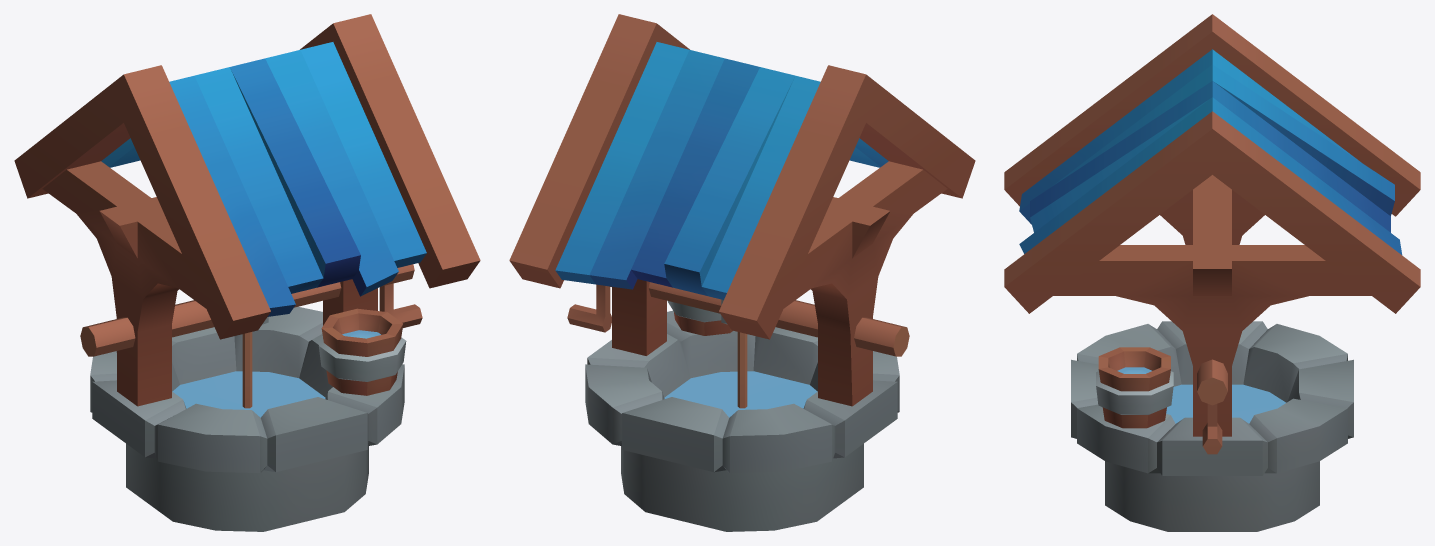
The model's file is well_blue.glb.
3 views of the same model, side by side, from view 1: azimuth 30°, elevation 25°; view 2: azimuth 150°, elevation 25°; view 3: azimuth 270°, elevation 25° (orthographic). The views are drawn at different scales.
Parts seen in each view (by area): view 1: building_well_blue; view 2: building_well_blue; view 3: building_well_blue.
Part boxes in pixels (x1=…): building_well_blue: x1=14, y1=14, x2=480, y2=531; building_well_blue: x1=509, y1=14, x2=975, y2=531; building_well_blue: x1=1004, y1=14, x2=1420, y2=531.
Size of the model in its own units: 0.6518 by 0.826 by 0.7507.
1 material, 1 textured.
